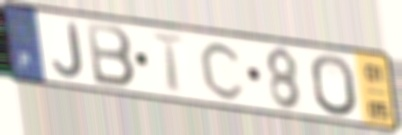8: (264, 45, 304, 112)
B: (83, 19, 138, 90)
C: (198, 39, 248, 102)
J: (51, 20, 86, 81)
O: (308, 52, 361, 119)
T: (149, 30, 189, 96)
